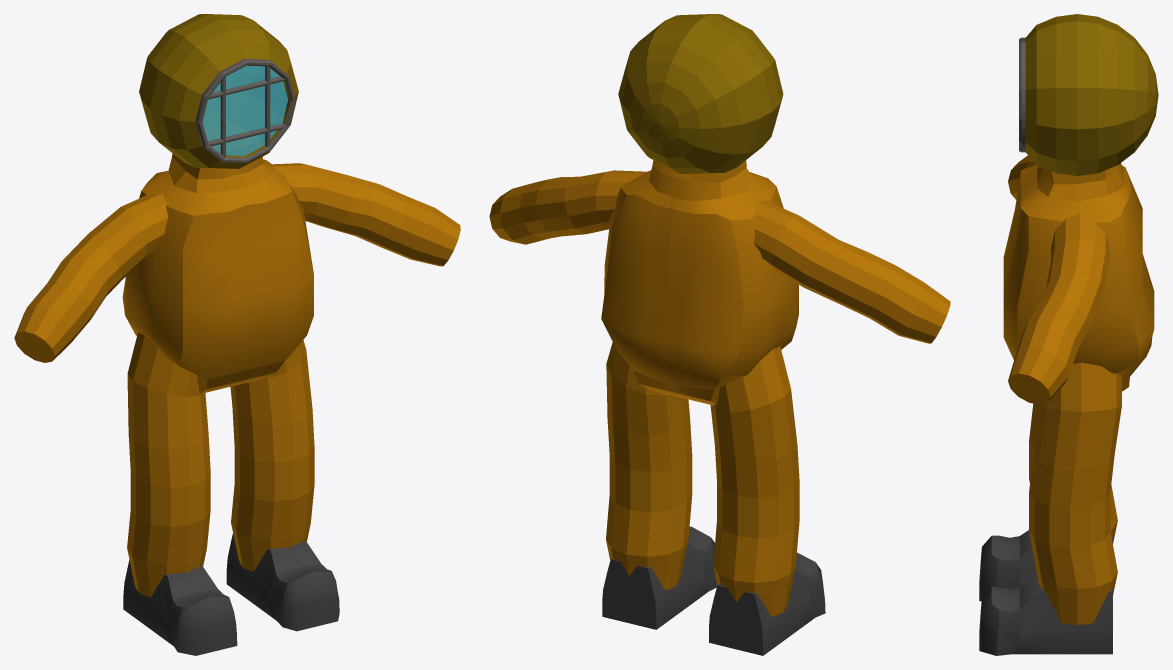
Rendered from player_Rough.fbx.
3 renders of one model, left to right at view 1: azimuth 30°, elevation 25°; view 2: azimuth 150°, elevation 25°; view 3: azimuth 270°, elevation 25°, orthographic. The views are drawn at different scales.
Visible parts, largest first — view 1: playerAvatar; view 2: playerAvatar; view 3: playerAvatar.
Part boxes in pixels (x1=…): playerAvatar: x1=14, y1=14, x2=460, y2=655; playerAvatar: x1=489, y1=14, x2=950, y2=655; playerAvatar: x1=979, y1=14, x2=1158, y2=655.
Size of the model in its own units: 6.36 by 8.06 by 2.2.
